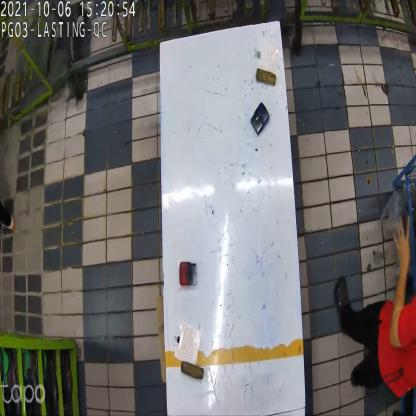stamp: (252, 102, 271, 137), (178, 258, 196, 288)
